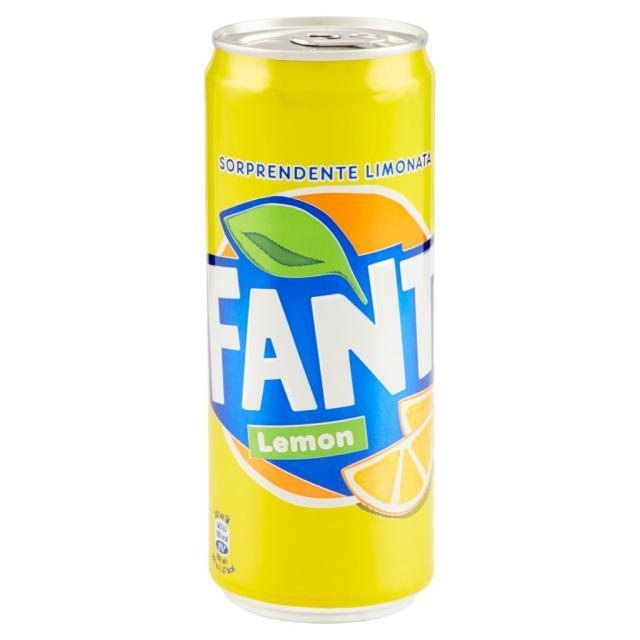Fanta: (198, 10, 442, 623)
